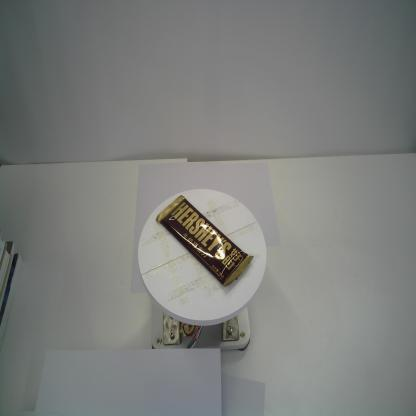Chocolate: (155, 193, 254, 289)
